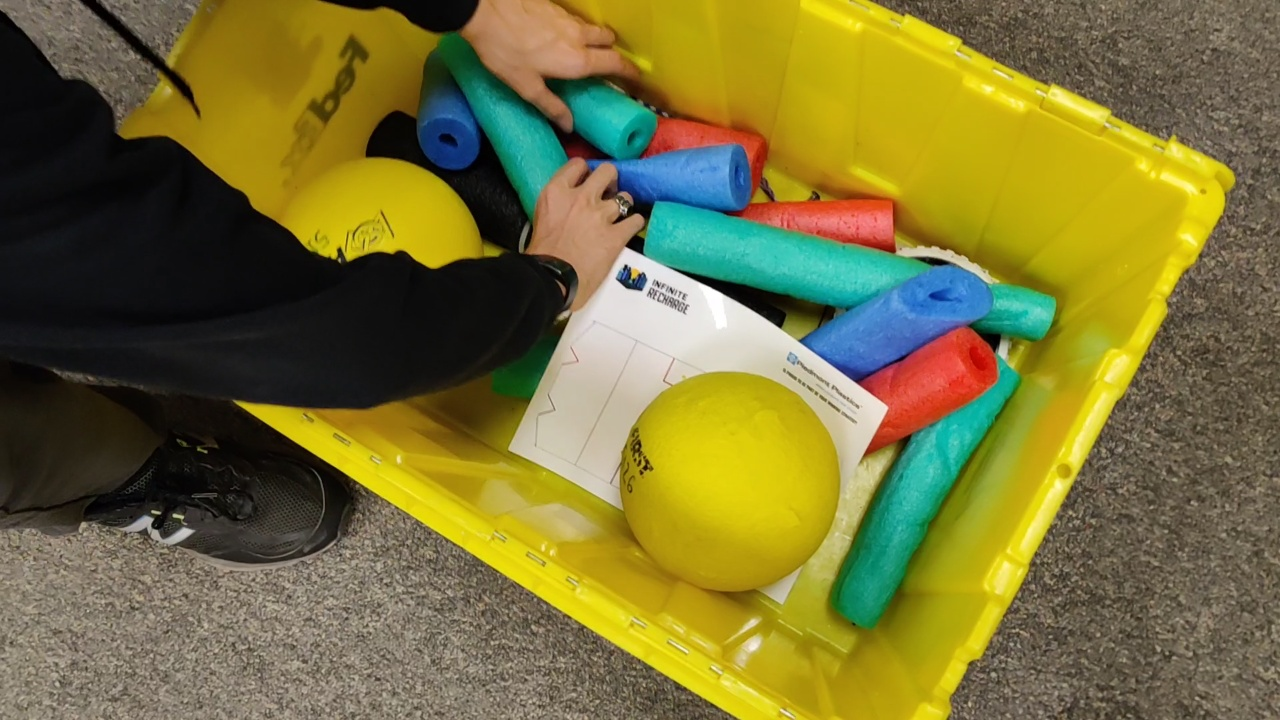Ball: (617, 370, 842, 591), (277, 158, 477, 262)
